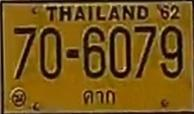0: (39, 27, 61, 78), (109, 26, 130, 77)
6: (82, 26, 104, 77)
7: (13, 26, 36, 78), (134, 25, 155, 77)
9: (160, 25, 182, 77)
TAK: (79, 87, 119, 107)
